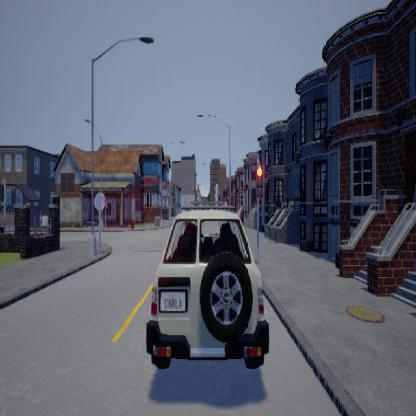traffic_light_red: (255, 160, 262, 202)
vehicle: (146, 200, 268, 368)
